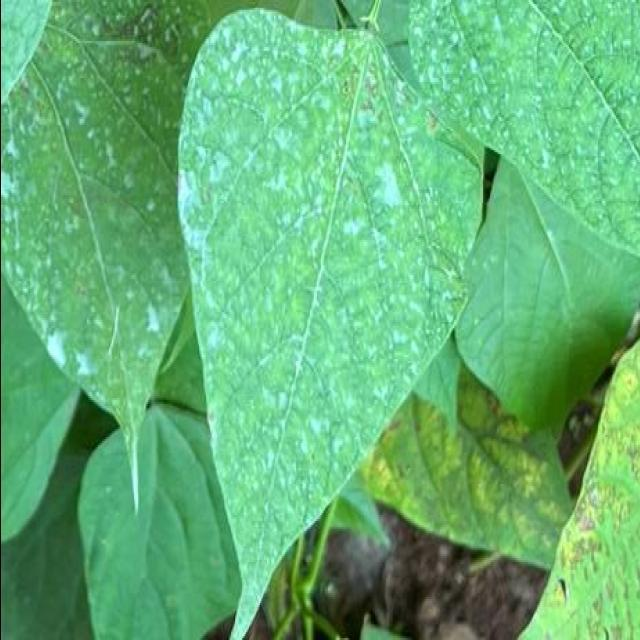embun tepung: (165, 157, 237, 260), (33, 322, 92, 389), (367, 168, 427, 223)
